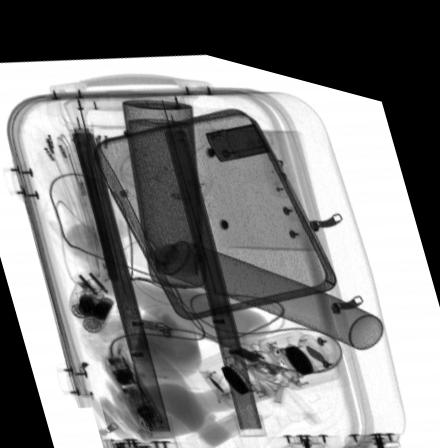Lighter: (206, 109, 270, 148)
Sprayer: (119, 216, 383, 329)
